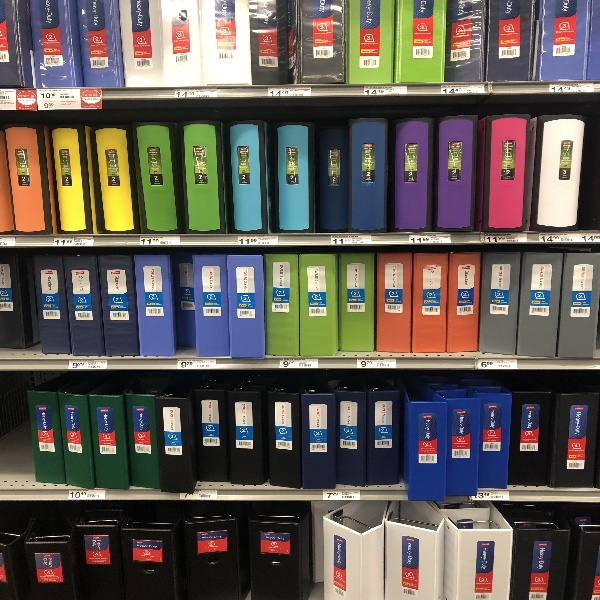void: (1, 372, 30, 485)
